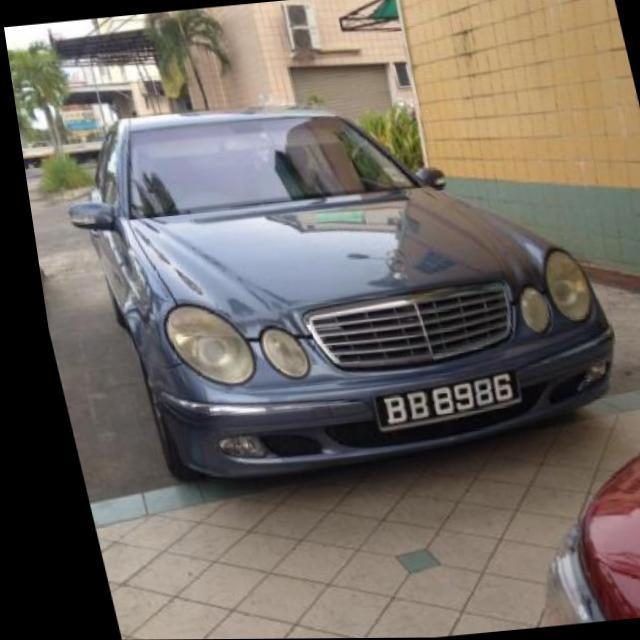license_plate: (355, 368, 516, 433)
